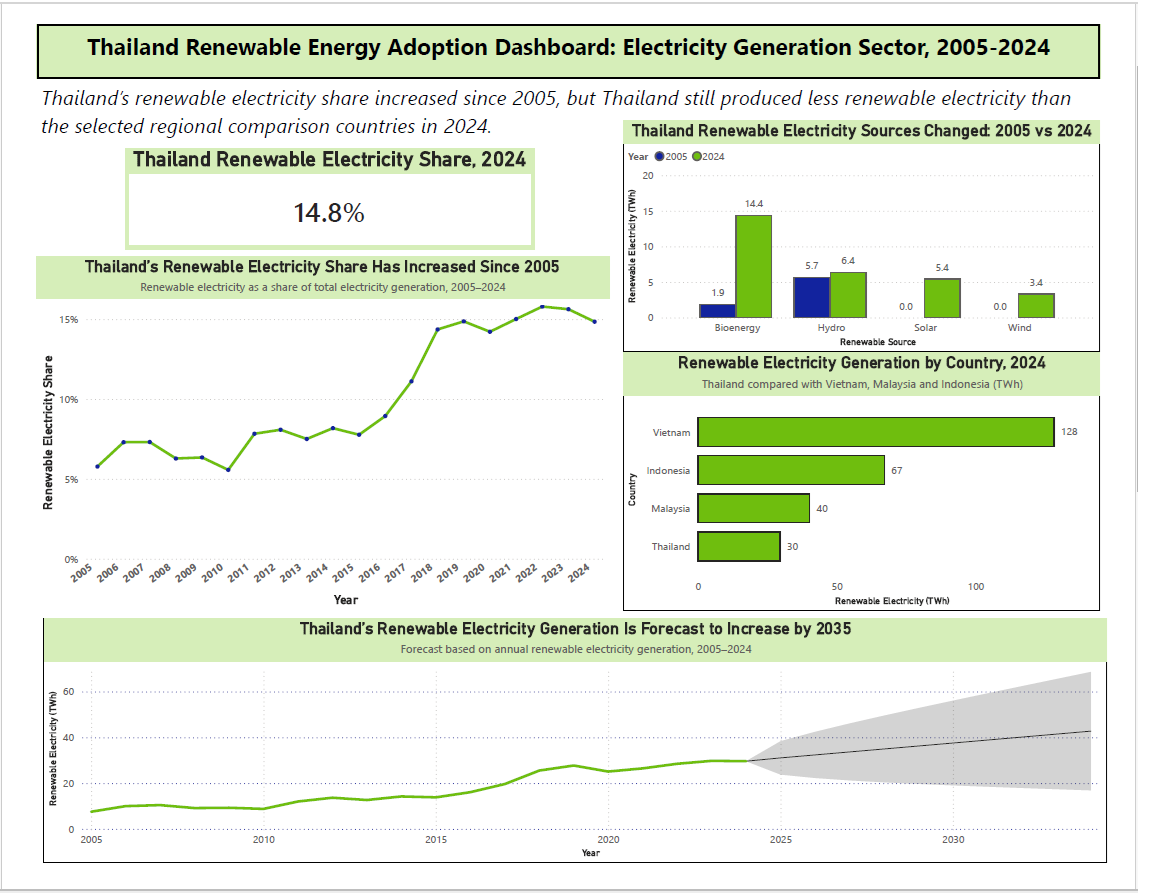

The page's visual inventory and layout, read from the dashboard file:
{"tool":"powerbi","page":{"name":"Page 1","canvas":[1280,990],"ordinal":0},"visuals":[{"type":"lineChart","title":"Thailand’s Renewable Electricity Share Has Increased Since 2005","fields":{"Category":["Year_Dim.Year"],"Y":["Measures_Table.Renewable Share"]},"box":[16,272,672,416],"z":0},{"type":"cardVisual","title":"Thailand Renewable Electricity Share, 2024","fields":{"Data":["Measures_Table.Renewable Share"]},"box":[112,160,480,96],"z":1000},{"type":"clusteredBarChart","title":"Renewable Electricity Generation by Country, 2024","fields":{"Category":["Country_Dim.Country"],"Y":["Measures_Table.Renewable Electricity TWh"]},"box":[704,384,560,304],"z":2000},{"type":"textbox","box":[16,0,1248,64],"z":3000},{"type":"lineChart","title":"Thailand’s Renewable Electricity Generation Is Forecast to Increase by 2035","fields":{"Y":["Measures_Table.Renewable Electricity TWh"],"Category":["Year_Dim.Year Date"]},"box":[24,696,1248,288],"z":4000},{"type":"textbox","box":[16,64,1248,80],"z":5000},{"type":"clusteredColumnChart","title":"Thailand Renewable Electricity Sources Changed: 2005 vs 2024","fields":{"Category":["Renewable_Source_Long.Renewable Source"],"Y":["Measures_Table.Source Generation TWh"],"Series":["Year_Dim.Year"]},"box":[704,112,560,272],"z":6000}]}

Visuals, with their boxes in screenshot pixels (x1, y1, x2, y2), scaled from the page's 1280x990 canvas onto the 1152x893 screenshot:
"Thailand’s Renewable Electricity Share Has Increased Since 2005" lineChart: region(14, 245, 619, 621)
"Thailand Renewable Electricity Share, 2024" cardVisual: region(101, 144, 533, 231)
"Renewable Electricity Generation by Country, 2024" clusteredBarChart: region(634, 346, 1138, 621)
textbox: region(14, 0, 1138, 58)
"Thailand’s Renewable Electricity Generation Is Forecast to Increase by 2035" lineChart: region(22, 628, 1145, 888)
textbox: region(14, 58, 1138, 130)
"Thailand Renewable Electricity Sources Changed: 2005 vs 2024" clusteredColumnChart: region(634, 101, 1138, 346)
